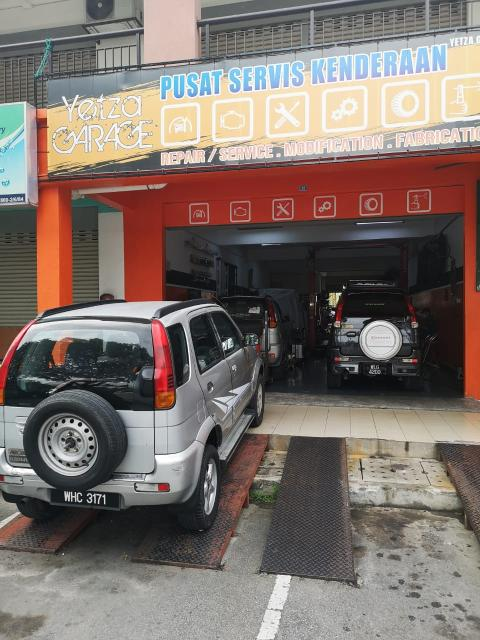License_Plate: (52, 489, 123, 511), (366, 365, 389, 376)
car: (2, 299, 281, 536), (325, 273, 435, 390)
